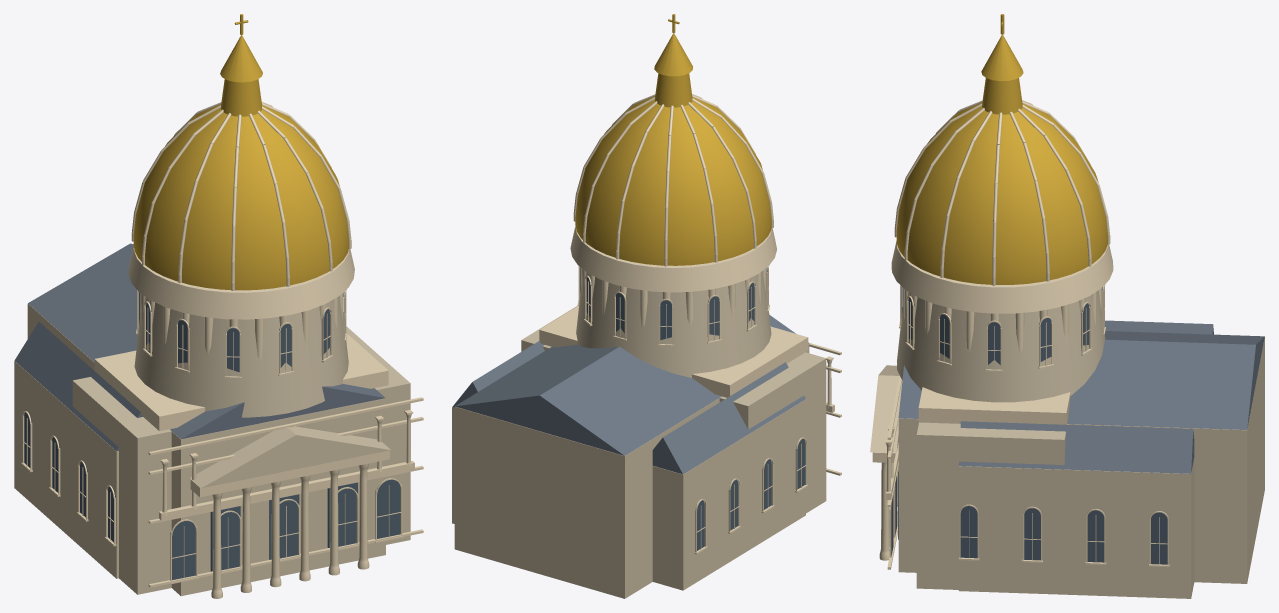
Rendered from paris-invalides-near.glb.
3 renders of one model, left to right at view 1: azimuth 30°, elevation 25°; view 2: azimuth 150°, elevation 25°; view 3: azimuth 270°, elevation 25°, orthographic. The views are drawn at different scales.
Parts seen in each view (by area): view 1: stone, trim, gold, roof, glass; view 2: stone, gold, roof, trim, glass; view 3: stone, gold, roof, trim, glass.
Boxes of the visible parts, x1,y1,x2,y2 form: stone: [14, 296, 410, 596]; trim: [21, 102, 423, 598]; gold: [133, 14, 348, 290]; roof: [14, 243, 385, 451]; glass: [24, 292, 400, 580]; stone: [452, 271, 826, 598]; gold: [575, 14, 771, 265]; roof: [452, 315, 808, 474]; trim: [539, 94, 841, 554]; glass: [580, 267, 805, 550]; stone: [870, 290, 1264, 598]; gold: [896, 14, 1107, 284]; roof: [898, 320, 1264, 473]; trim: [872, 100, 1169, 569]; glass: [891, 286, 1167, 564].
Size of the model in its own units: 61.11 by 107 by 74.5.
